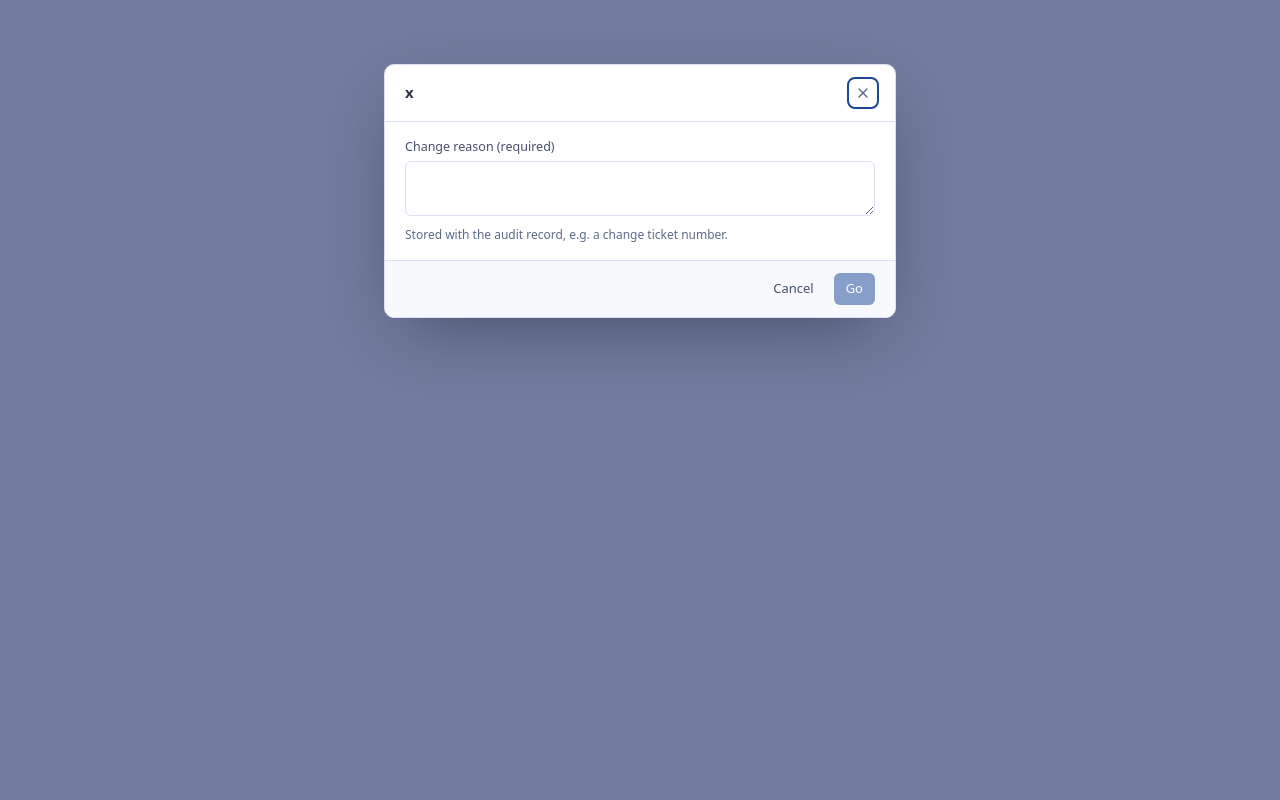
Test: ConfirmDialog › requires a reason when asked
Expected: the button "Go" is disabled, [834,272,875,304]
In the text box: (640, 189) [405,161,875,216], type "CHG-1"
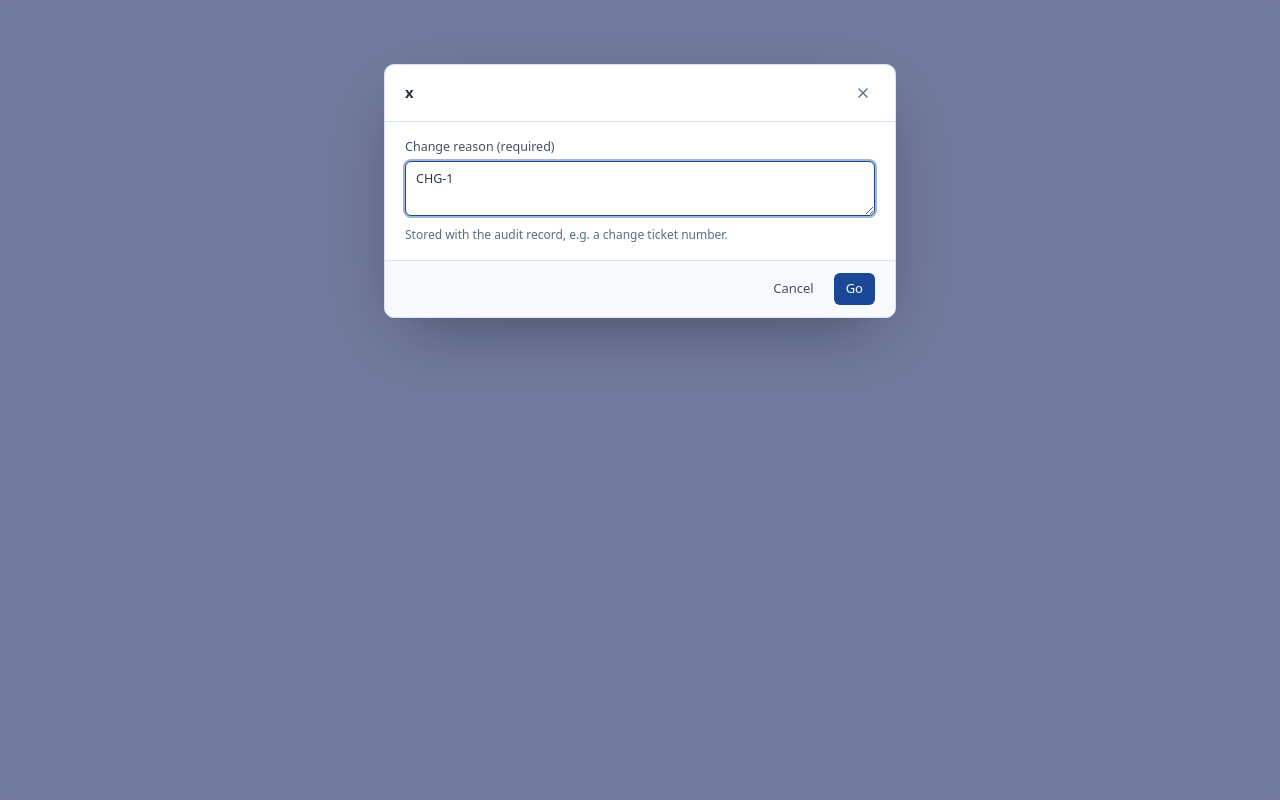
Expected: the button "Go" is enabled, [834,272,875,304]
